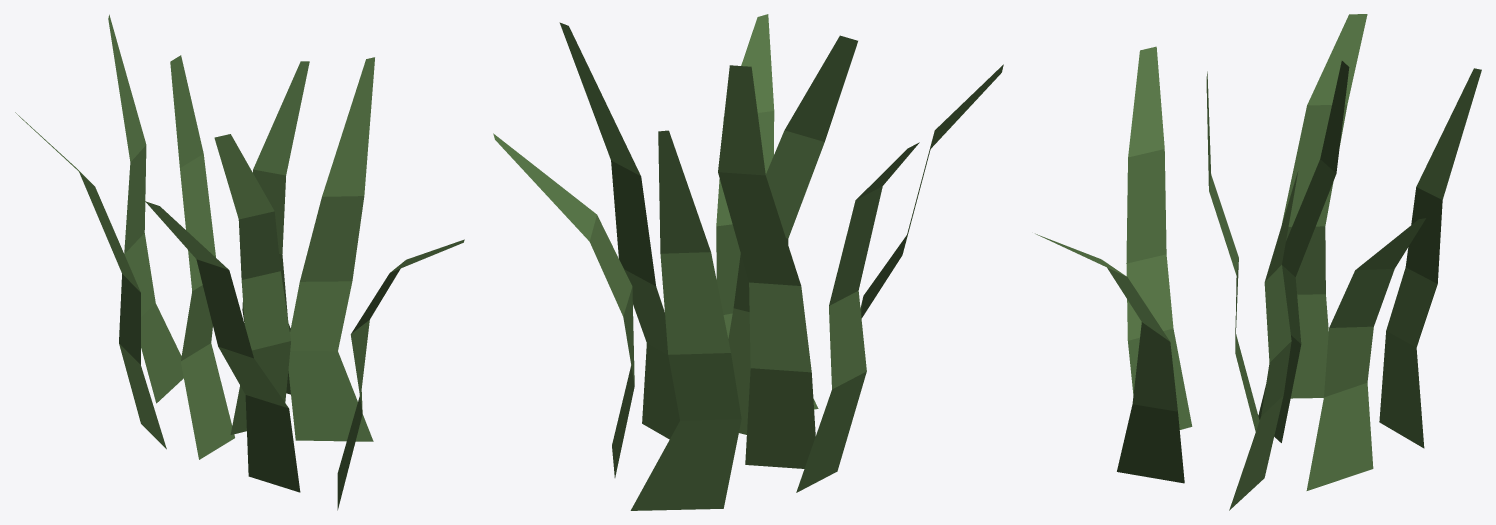
Rendered from Ruoho.fbx.
3 views of the same model, side by side, from view 1: azimuth 30°, elevation 25°; view 2: azimuth 150°, elevation 25°; view 3: azimuth 270°, elevation 25° (orthographic). The views are drawn at different scales.
Parts seen in each view (by area): view 1: Plane; view 2: Plane; view 3: Plane.
Boxes of the visible parts, bbox=[...] form: Plane: bbox=[15, 14, 464, 510]; Plane: bbox=[493, 14, 1003, 510]; Plane: bbox=[1035, 14, 1481, 510].
Size of the model in its own units: 59.27 by 66.03 by 70.02.
